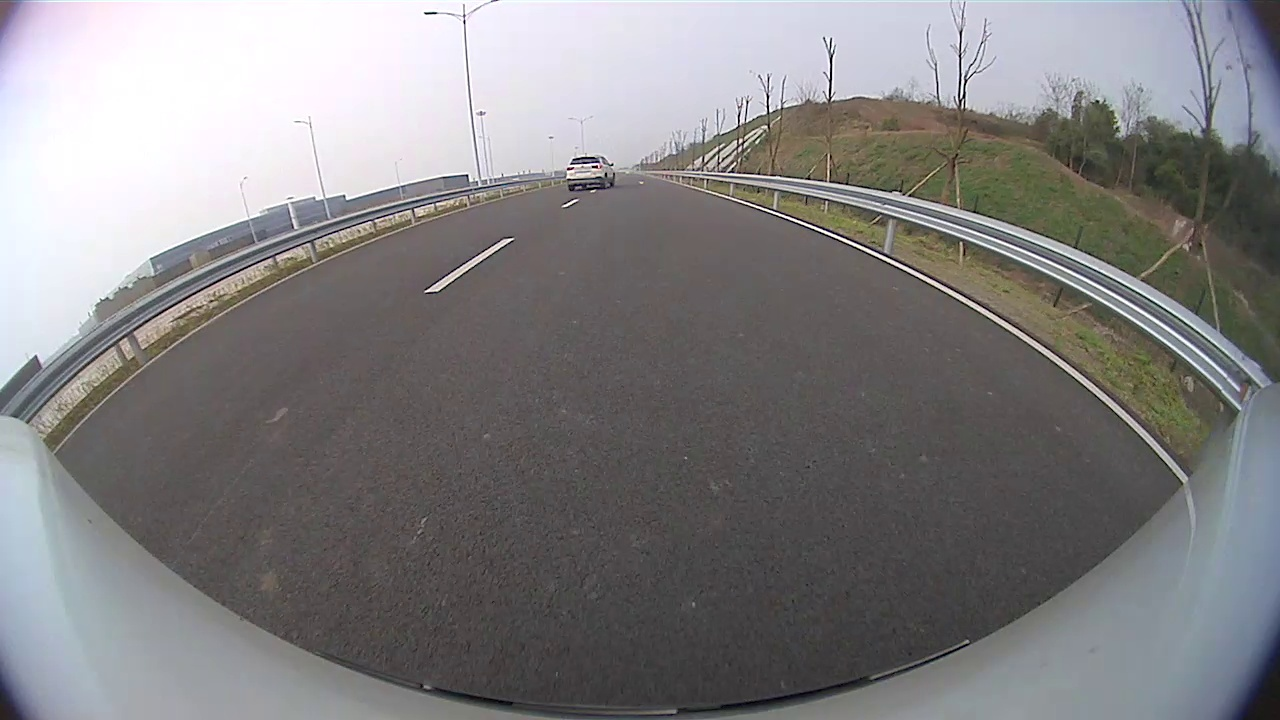car: (565, 154, 617, 192)
rear: (603, 176, 610, 190)
